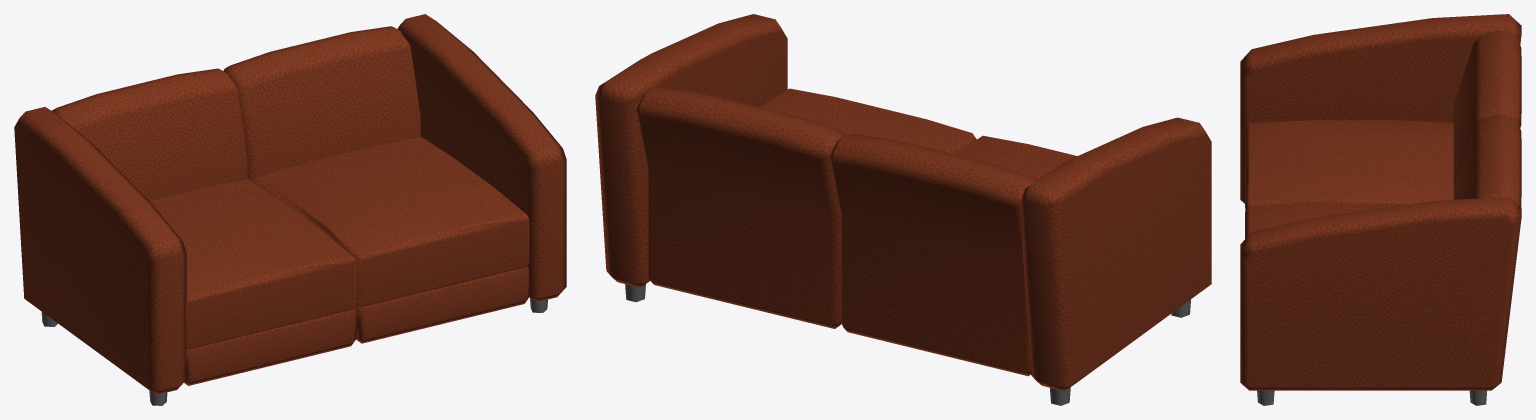
File: sofa_003.fbx
3 views of the same model, side by side, from view 1: azimuth 30°, elevation 25°; view 2: azimuth 150°, elevation 25°; view 3: azimuth 270°, elevation 25° (orthographic). The views are drawn at different scales.
Visible parts, largest first — view 1: sofa_003; view 2: sofa_003; view 3: sofa_003.
Boxes of the visible parts, x1,y1,x2,y2 form: sofa_003: [14, 14, 566, 405]; sofa_003: [595, 14, 1211, 405]; sofa_003: [1240, 14, 1521, 405].
Size of the model in its own units: 230 by 136 by 108.
